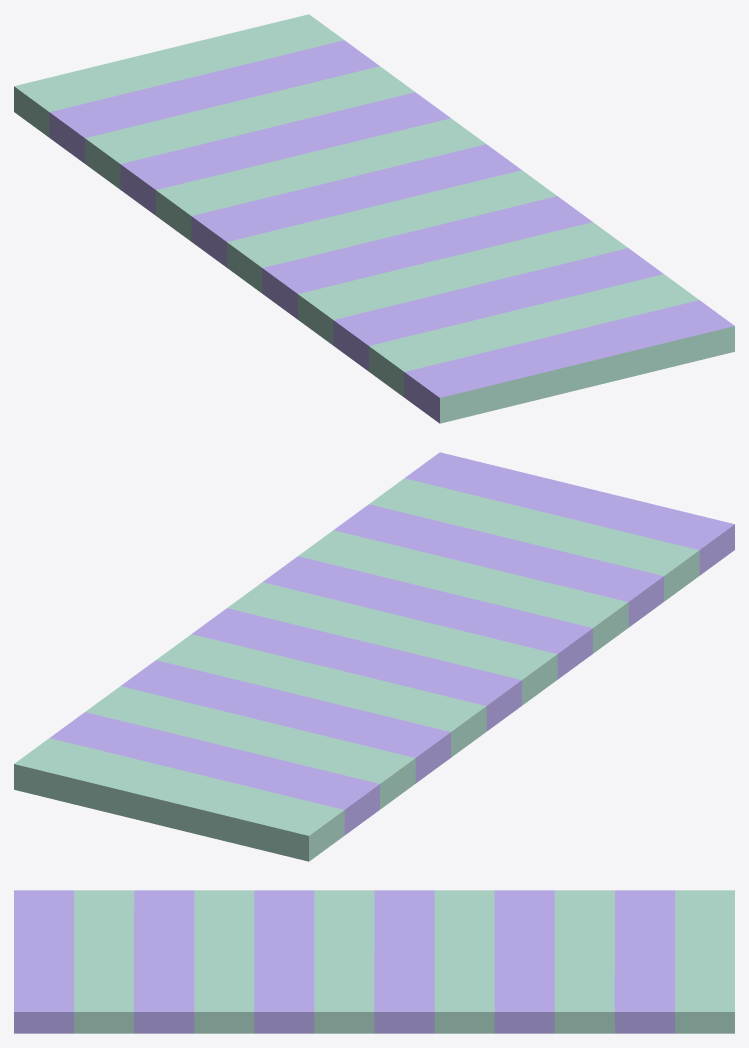
The model's file is Road.fbx.
3 renders of one model, top to bottom at view 1: azimuth 30°, elevation 25°; view 2: azimuth 150°, elevation 25°; view 3: azimuth 270°, elevation 25°, orthographic. The views are drawn at different scales.
Parts seen in each view (by area): view 1: Cube; view 2: Cube; view 3: Cube.
Part boxes in pixels (left/top/right/bottom): Cube: left=14, top=14, right=734, bottom=423; Cube: left=14, top=452, right=734, bottom=861; Cube: left=14, top=890, right=734, bottom=1033.
Bounding box in the file's own units: 1200 × 100 × 3000.
